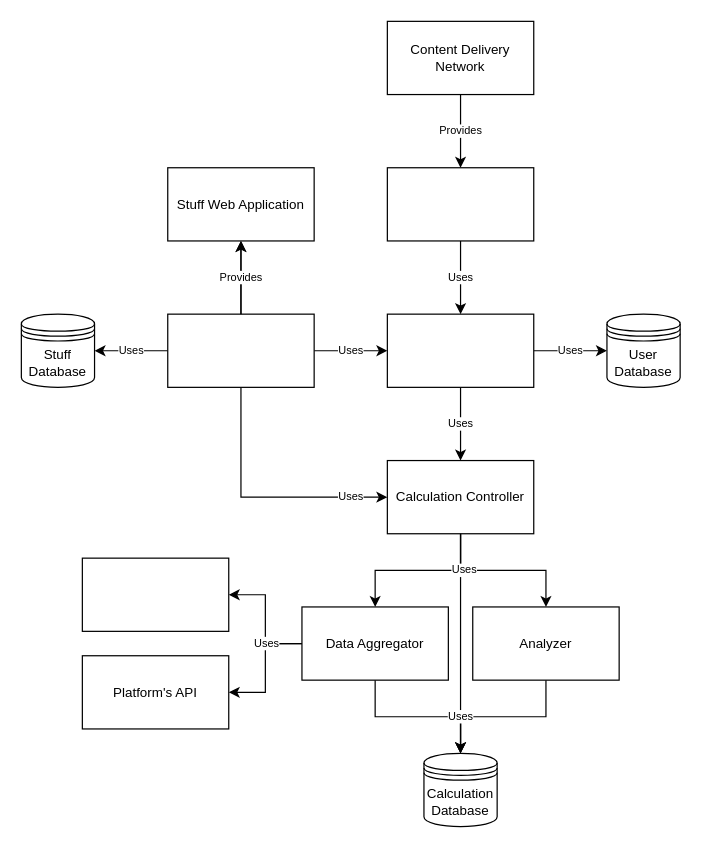
Some shapes in this 702 by 848 pixel diagram are drawn without their labels. The shapes that lost their labels are listed below. From the top down, each one's box as (x1, y1, x2, y2) in pixels, then its label:
(386, 167, 534, 241): User Web Application
(167, 313, 314, 387): Stuff Web Server
(386, 313, 534, 387): Business Logic
(81, 557, 229, 631): Platform's Web Interface
